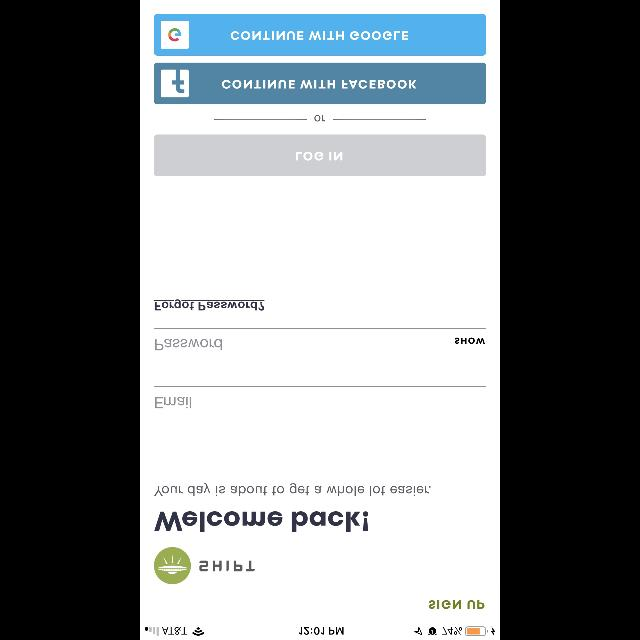image: (154, 546, 192, 584)
input: (154, 386, 486, 408), (154, 328, 486, 350)
text: (154, 511, 368, 532), (154, 482, 430, 496), (155, 300, 265, 310), (156, 338, 222, 350), (200, 560, 254, 572), (155, 397, 191, 409), (430, 600, 484, 608), (455, 338, 485, 344), (314, 115, 326, 121)
textbutton: (154, 14, 486, 56), (154, 62, 486, 104), (154, 135, 486, 177)
uppertaskbar: (140, 626, 500, 640)
